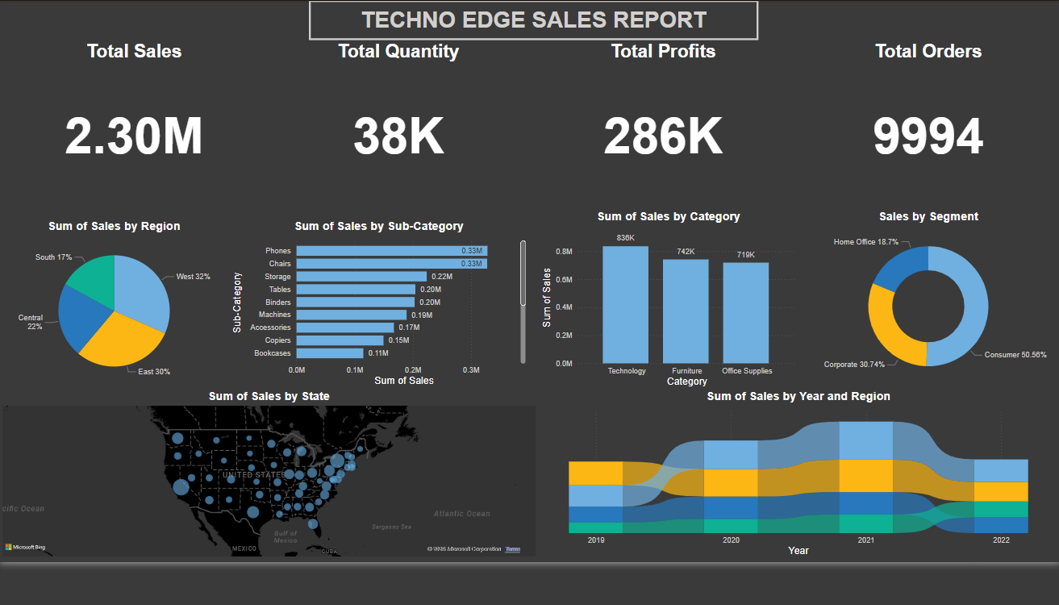

Layout of this report page (visuals, bound fields, positions):
{"tool":"powerbi","page":{"name":"Page 1","canvas":[1700,900],"ordinal":0},"visuals":[{"type":"clusteredBarChart","fields":{"Category":["Combined_Data.Sub-Category"],"Y":["Sum(Combined_Data.Sales)"]},"box":[368,352,480,272],"z":0},{"type":"pieChart","fields":{"Category":["Combined_Data.Region"],"Y":["Sum(Combined_Data.Sales)"]},"box":[0,352,368,272],"z":1000},{"type":"donutChart","title":"Sales by Segment","fields":{"Category":["Combined_Data.Segment"],"Y":["Sum(Combined_Data.Sales)"]},"box":[1280,336,416,288],"z":2000},{"type":"clusteredColumnChart","fields":{"Y":["Sum(Combined_Data.Sales)"],"Category":["Combined_Data.Category"]},"box":[864,336,416,288],"z":3000},{"type":"ribbonChart","fields":{"Category":["Combined_Data.Order Date.Variation.Date Hierarchy.Year","Combined_Data.Order Date.Variation.Date Hierarchy.Quarter","Combined_Data.Order Date.Variation.Date Hierarchy.Month","Combined_Data.Order Date.Variation.Date Hierarchy.Day"],"Y":["Sum(Combined_Data.Sales)"],"Series":["Combined_Data.Region"]},"box":[864,624,832,272],"z":4000},{"type":"actionButton","box":[496,0,720,64],"z":5000},{"type":"map","fields":{"Category":["Combined_Data.State"],"Size":["Sum(Combined_Data.Sales)"]},"box":[0,624,864,272],"z":5001},{"type":"card","title":"Total Sales","fields":{"Values":["Sum(Combined_Data.Sales)"]},"box":[0,64,432,256],"z":5002},{"type":"card","title":"Total Quantity","fields":{"Values":["Sum(Combined_Data.Quantity)"]},"box":[432,64,416,256],"z":5003},{"type":"card","title":"Total Profits","fields":{"Values":["Sum(Combined_Data.Profit)"]},"box":[848,64,432,256],"z":5004},{"type":"card","title":"Total Orders","fields":{"Values":["CountNonNull(Combined_Data.Order ID)"]},"box":[1280,64,416,256],"z":5005}]}

Visuals, with their boxes on the page's 1700x900 design canvas (x1, y1, x2, y2). These are canvas units, not pixel positions in the 1059x605 screenshot, which may show the page scaled, cropped or inside an application window:
clusteredBarChart - Combined_Data.Sub-Category x Sum(Combined_Data.Sales): left=368, top=352, right=848, bottom=624
pieChart - Combined_Data.Region x Sum(Combined_Data.Sales): left=0, top=352, right=368, bottom=624
"Sales by Segment" donutChart: left=1280, top=336, right=1696, bottom=624
clusteredColumnChart - Sum(Combined_Data.Sales) x Combined_Data.Category: left=864, top=336, right=1280, bottom=624
ribbonChart - Combined_Data.Order Date.Variation.Date Hierarchy.Year x Combined_Data.Order Date.Variation.Date Hierarchy.Quarter: left=864, top=624, right=1696, bottom=896
actionButton: left=496, top=0, right=1216, bottom=64
map - Combined_Data.State x Sum(Combined_Data.Sales): left=0, top=624, right=864, bottom=896
"Total Sales" card: left=0, top=64, right=432, bottom=320
"Total Quantity" card: left=432, top=64, right=848, bottom=320
"Total Profits" card: left=848, top=64, right=1280, bottom=320
"Total Orders" card: left=1280, top=64, right=1696, bottom=320
